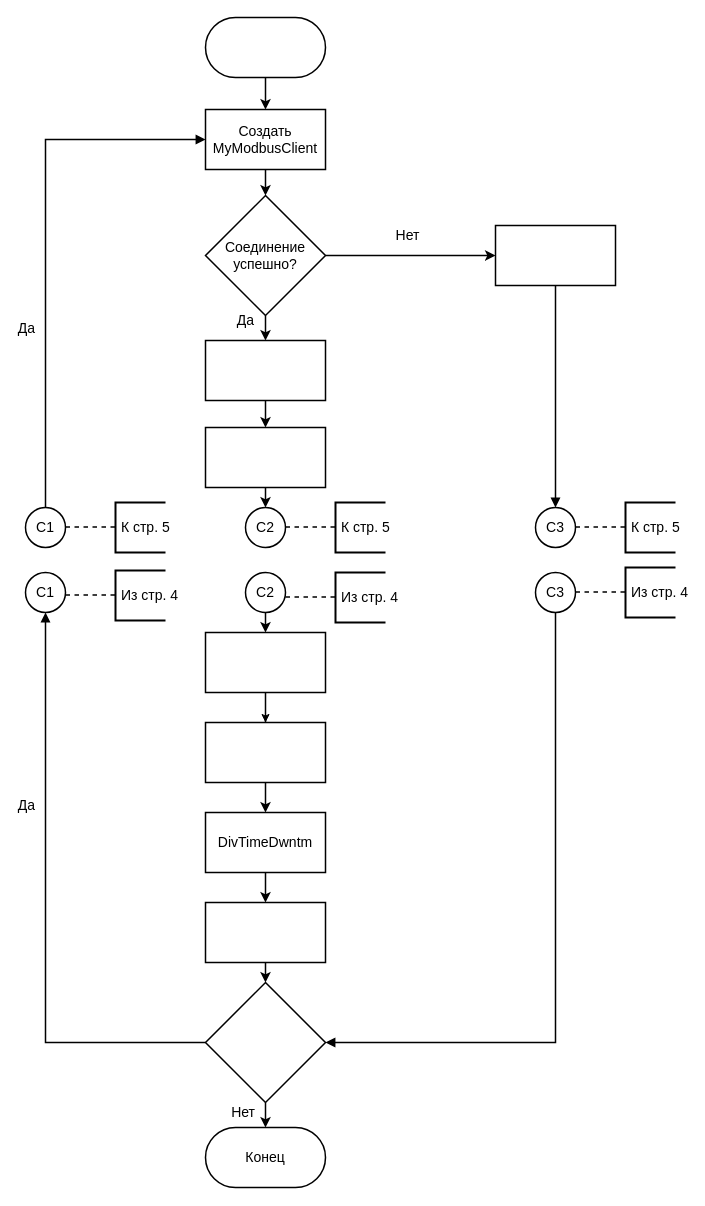
Some shapes in this 705 by 1206 pixel diagram are drawn without their labels. The shapes that lost their labels are listed below. From the top down, each one's centre as x and y in pixels, then its label:
At [265,47]: "Начало".
At [555,255]: "Запись ошибки в журнал и пауза 500 мс".
At [265,370]: "Чтение входных регистров".
At [265,457]: "Преобразование кода в состояния каналов".
At [265,662]: "DowntimeCheck".
At [265,752]: "UpdateCurrent Downtimes".
At [265,932]: "Сохранить состояние в XML".
At [265,1042]: "Продолжить опрос?".
